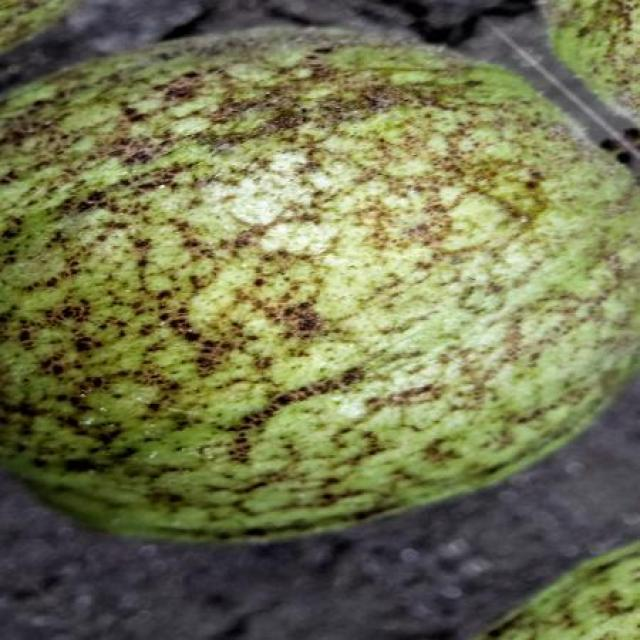Scab: (0, 32, 640, 538)
